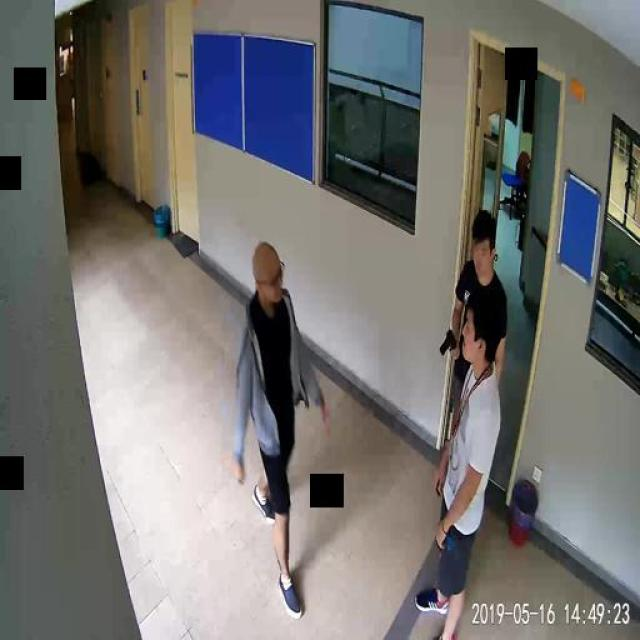gun: (439, 328, 456, 358)
